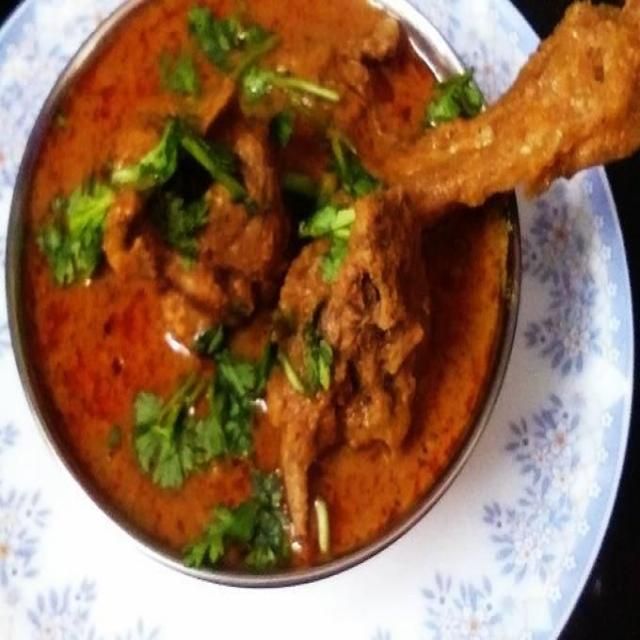chicken: (19, 27, 606, 546)
